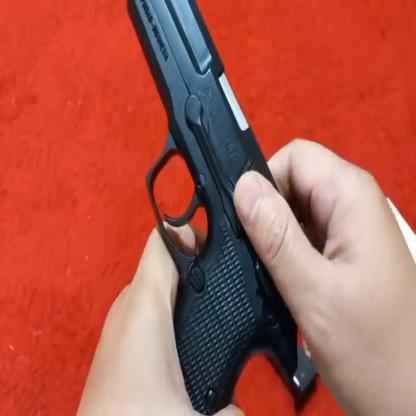handgun: (117, 0, 304, 405)
